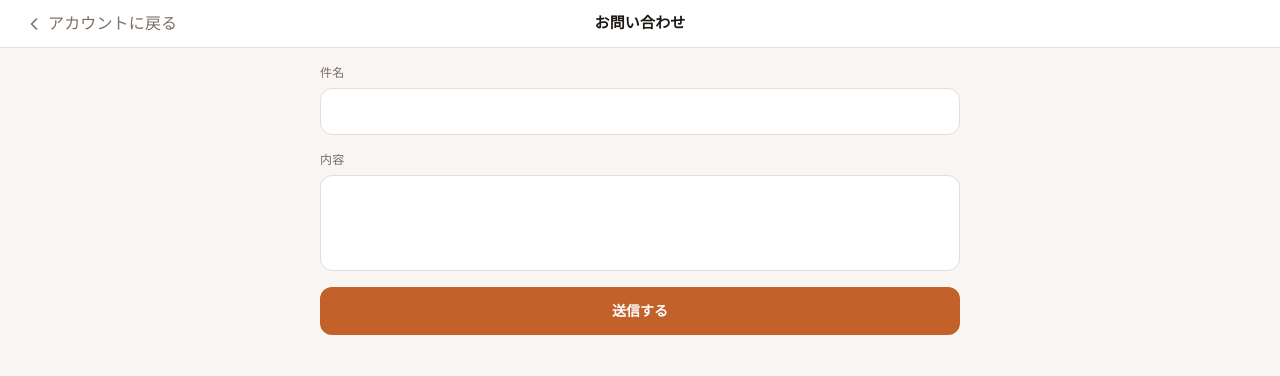
Scenario: ContactSupportPage › 422のフィールドエラーを表示し、入力値を保持する
In the field labelled "件名": [640, 112] box x1=320 y1=88 x2=960 y2=135, type "お問い合わせ件名"
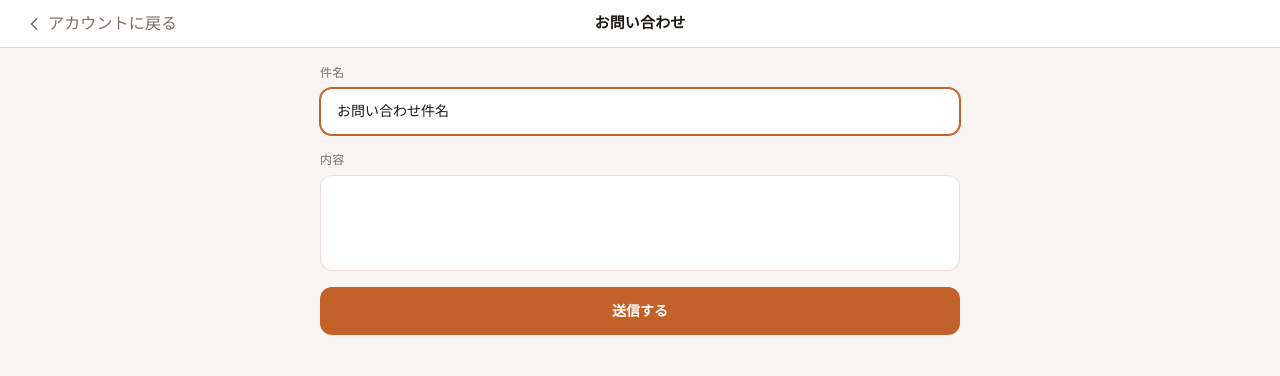
In the text box labelled "内容": [640, 223] box x1=320 y1=175 x2=960 y2=271, type "お問い合わせ内容"
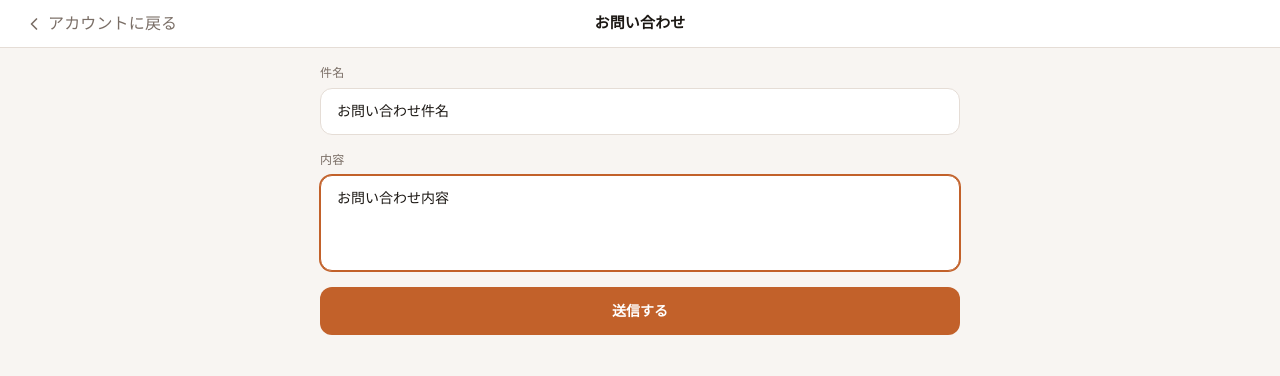
Click the button "送信する": [640, 311] box x1=320 y1=287 x2=960 y2=335
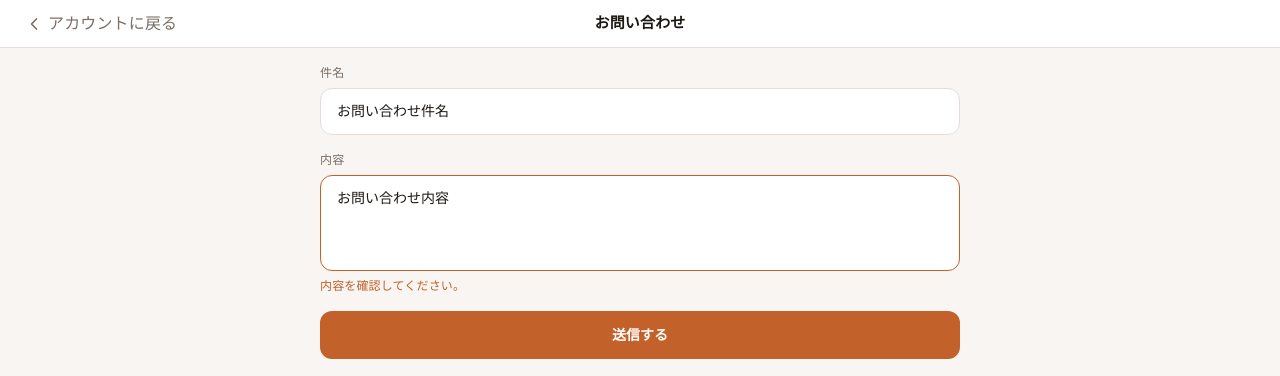
Expected: the text "内容を確認してください。" is shown, x1=320 y1=279 x2=465 y2=293
